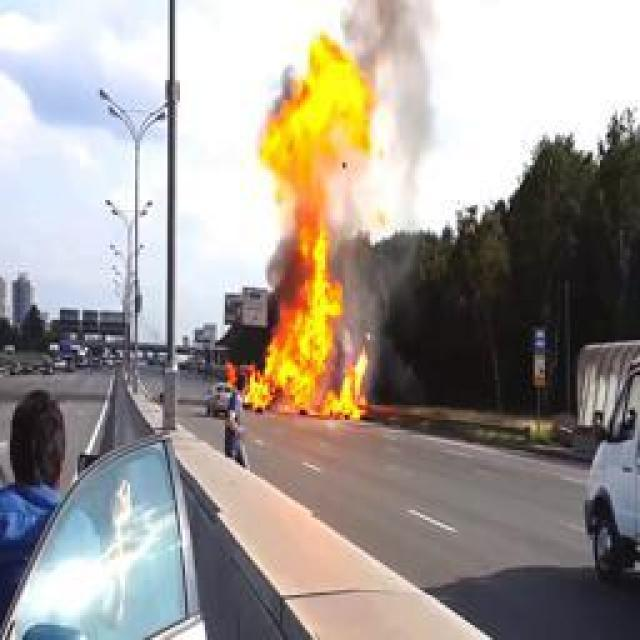Fire: (245, 31, 373, 424)
